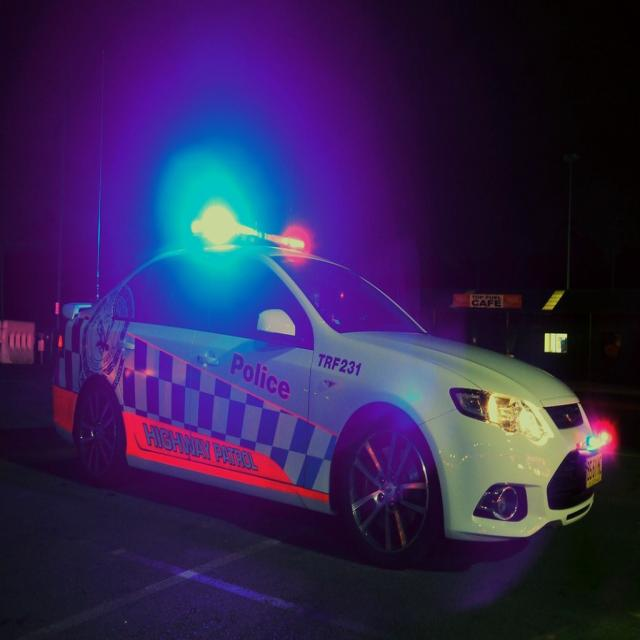car: (49, 203, 603, 560)
